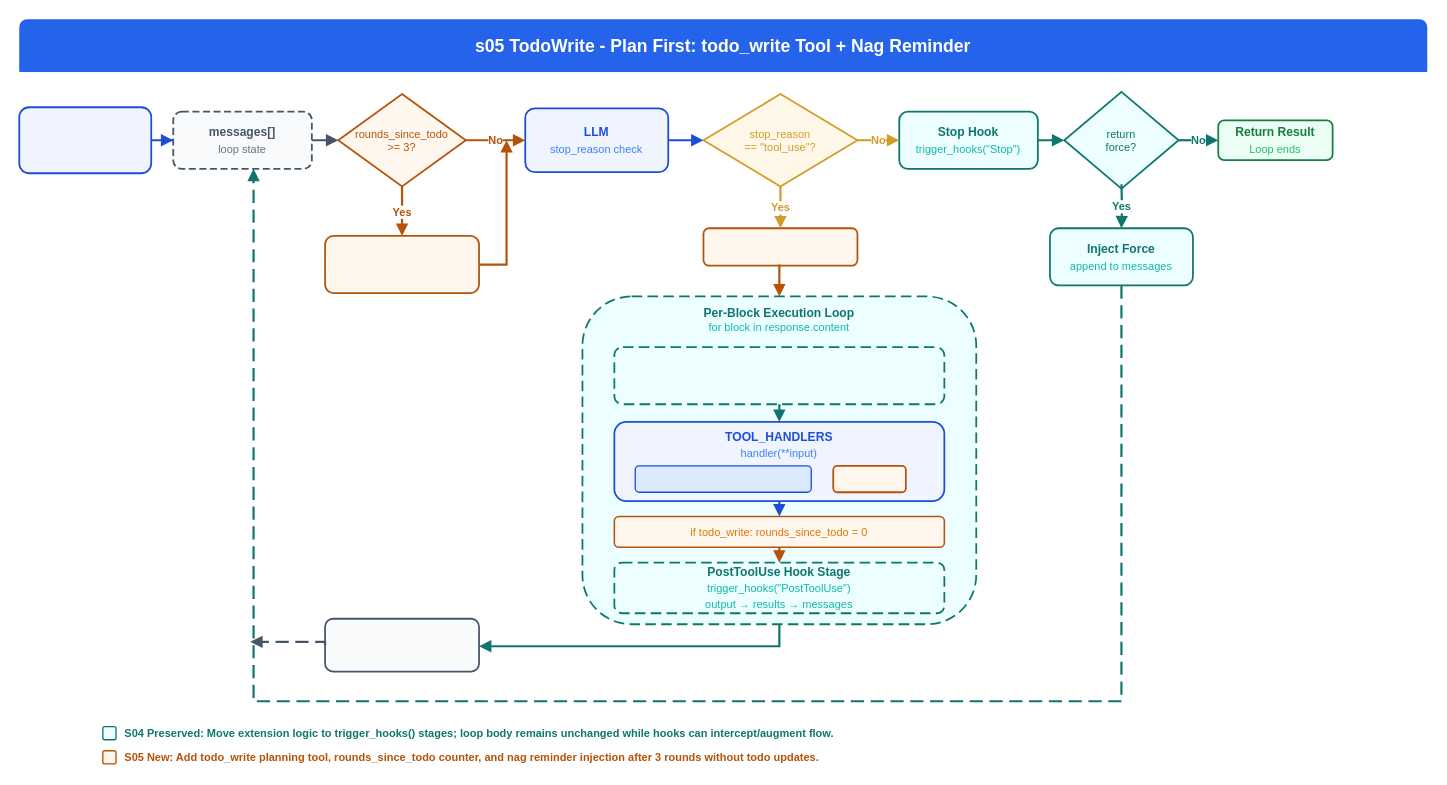
The diagram is 1447 pixels wide and 785 high, and some of its shapes have lost their labels. The shapes that lost their labels are listed below. From the top down, each one's box as (x1, y1, x2, y2) in pixels, then its label:
(18, 106, 152, 174): User Query Rename all .py files to snake_case, run tests...
(324, 235, 479, 293): Inject Reminder messages.append(reminder) rounds_since_todo = 0
(702, 227, 858, 266): rounds_since_todo++
(613, 346, 945, 405): PreToolUse Hook Stage trigger_hooks("PreToolUse") blocked → results.append
(634, 465, 811, 492): bash/read/write/edit/glob
(832, 464, 906, 493): todo_write
(324, 617, 479, 672): tool_result append to messages[]
